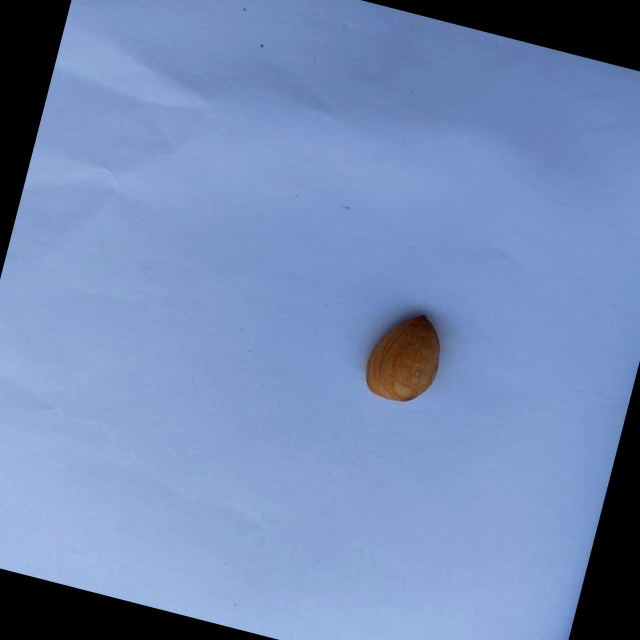grade2: (352, 300, 454, 413)
